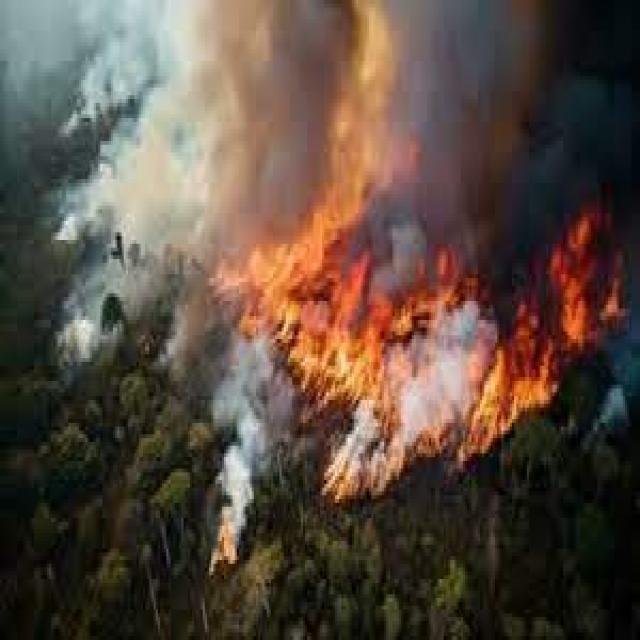Fire: (205, 0, 640, 579)
Smoke: (381, 14, 631, 316), (48, 6, 352, 251), (49, 0, 191, 378), (329, 301, 495, 480), (211, 343, 285, 573)
